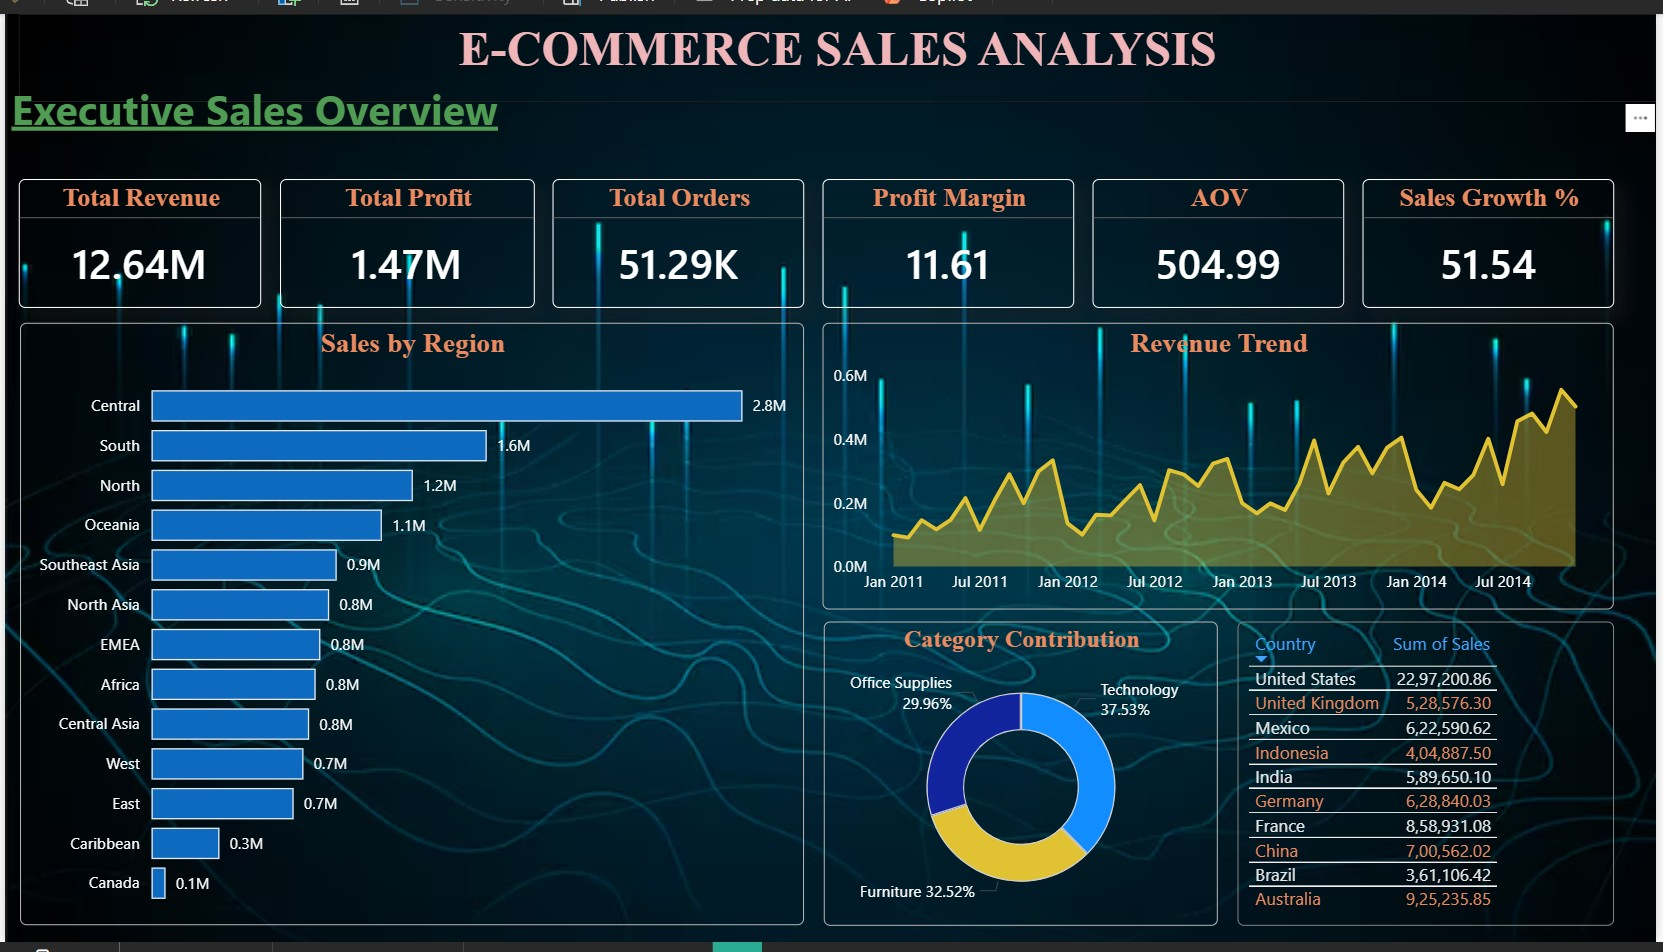

This screenshot's page, from the dashboard's own definition file:
{"tool":"powerbi","page":{"name":"Sales Overview","canvas":[1280,720],"ordinal":0},"visuals":[{"type":"textbox","box":[10.5,0,1269.8,68.6],"z":0},{"type":"textbox","box":[0,46.5,634.9,70.9],"z":1000},{"type":"cardVisual","title":"Total Revenue","fields":{"Data":["Sum(Global_Superstore.Sales)"]},"box":[10.5,127.9,188.4,100],"z":2000},{"type":"cardVisual","title":"Total Profit","fields":{"Data":["Sum(Global_Superstore.Profit)"]},"box":[212.8,127.9,197.7,100],"z":3000},{"type":"cardVisual","title":"Total Orders","fields":{"Data":["CountNonNull(Global_Superstore.Order ID)"]},"box":[424.4,127.9,195.3,100],"z":4000},{"type":"cardVisual","title":"Profit Margin","fields":{"Data":["Global_Superstore.Profit Margin %"]},"box":[633.7,127.9,195.3,100],"z":5000},{"type":"cardVisual","title":"AOV","fields":{"Data":["Global_Superstore.Average Order Value"]},"box":[843,127.9,195.3,100],"z":6000},{"type":"cardVisual","title":"Sales Growth %","fields":{"Data":["Global_Superstore.Sales Growth %"]},"box":[1052.3,127.9,195.3,100],"z":7000},{"type":"lineChart","title":"Revenue Trend","fields":{"Y":["Sum(Global_Superstore.Sales)"],"Category":["Global_Superstore.Order Date.Variation.Date Hierarchy.Year","Global_Superstore.Order Date.Variation.Date Hierarchy.Month"]},"box":[633.7,239.5,614,222.1],"z":8000},{"type":"clusteredBarChart","title":"Sales by Region","fields":{"Category":["Global_Superstore.Region"],"Y":["Sum(Global_Superstore.Sales)"]},"box":[11.6,239.5,608.1,467.4],"z":9000},{"type":"donutChart","title":"Category Contribution","fields":{"Y":["Sum(Global_Superstore.Sales)"],"Category":["Global_Superstore.Category"]},"box":[634.9,470.9,305.8,236],"z":10000},{"type":"tableEx","fields":{"Values":["Global_Superstore.Country","Sum(Global_Superstore.Sales)"]},"box":[955.8,470.9,291.9,236],"z":11001}]}

Visuals, with their boxes on the page's 1280x720 design canvas (x1, y1, x2, y2). These are canvas units, not pixel positions in the 1663x952 screenshot, which may show the page scaled, cropped or inside an application window:
textbox: bbox=[10, 0, 1280, 69]
textbox: bbox=[0, 46, 635, 117]
"Total Revenue" cardVisual: bbox=[10, 128, 199, 228]
"Total Profit" cardVisual: bbox=[213, 128, 410, 228]
"Total Orders" cardVisual: bbox=[424, 128, 620, 228]
"Profit Margin" cardVisual: bbox=[634, 128, 829, 228]
"AOV" cardVisual: bbox=[843, 128, 1038, 228]
"Sales Growth %" cardVisual: bbox=[1052, 128, 1248, 228]
"Revenue Trend" lineChart: bbox=[634, 240, 1248, 462]
"Sales by Region" clusteredBarChart: bbox=[12, 240, 620, 707]
"Category Contribution" donutChart: bbox=[635, 471, 941, 707]
tableEx - Global_Superstore.Country x Sum(Global_Superstore.Sales): bbox=[956, 471, 1248, 707]
